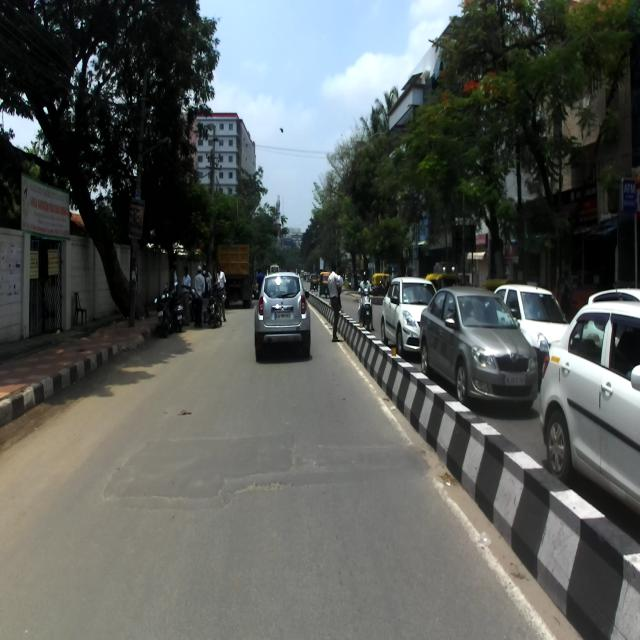car ahead at: (420, 279, 540, 414), (256, 269, 312, 357)
